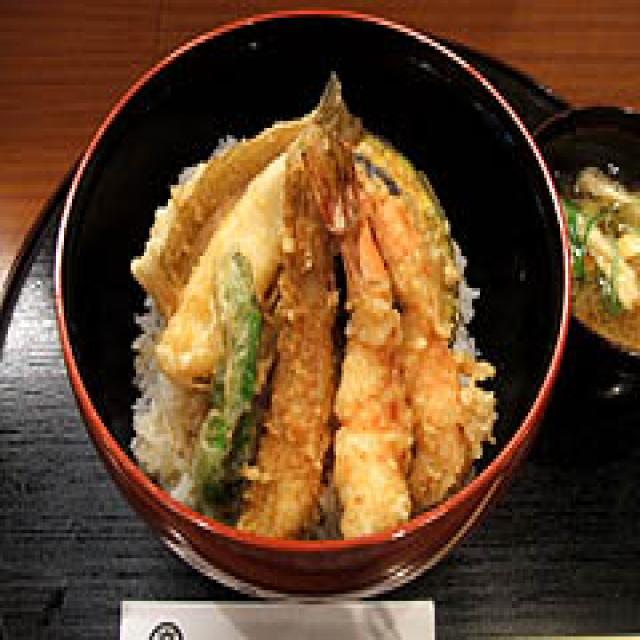汤锅炖物: (544, 96, 635, 341)
熟制海鲜: (51, 0, 576, 587)
